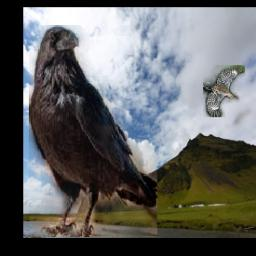Crow: (29, 26, 157, 238)
Woodpecker: (204, 65, 246, 117)
